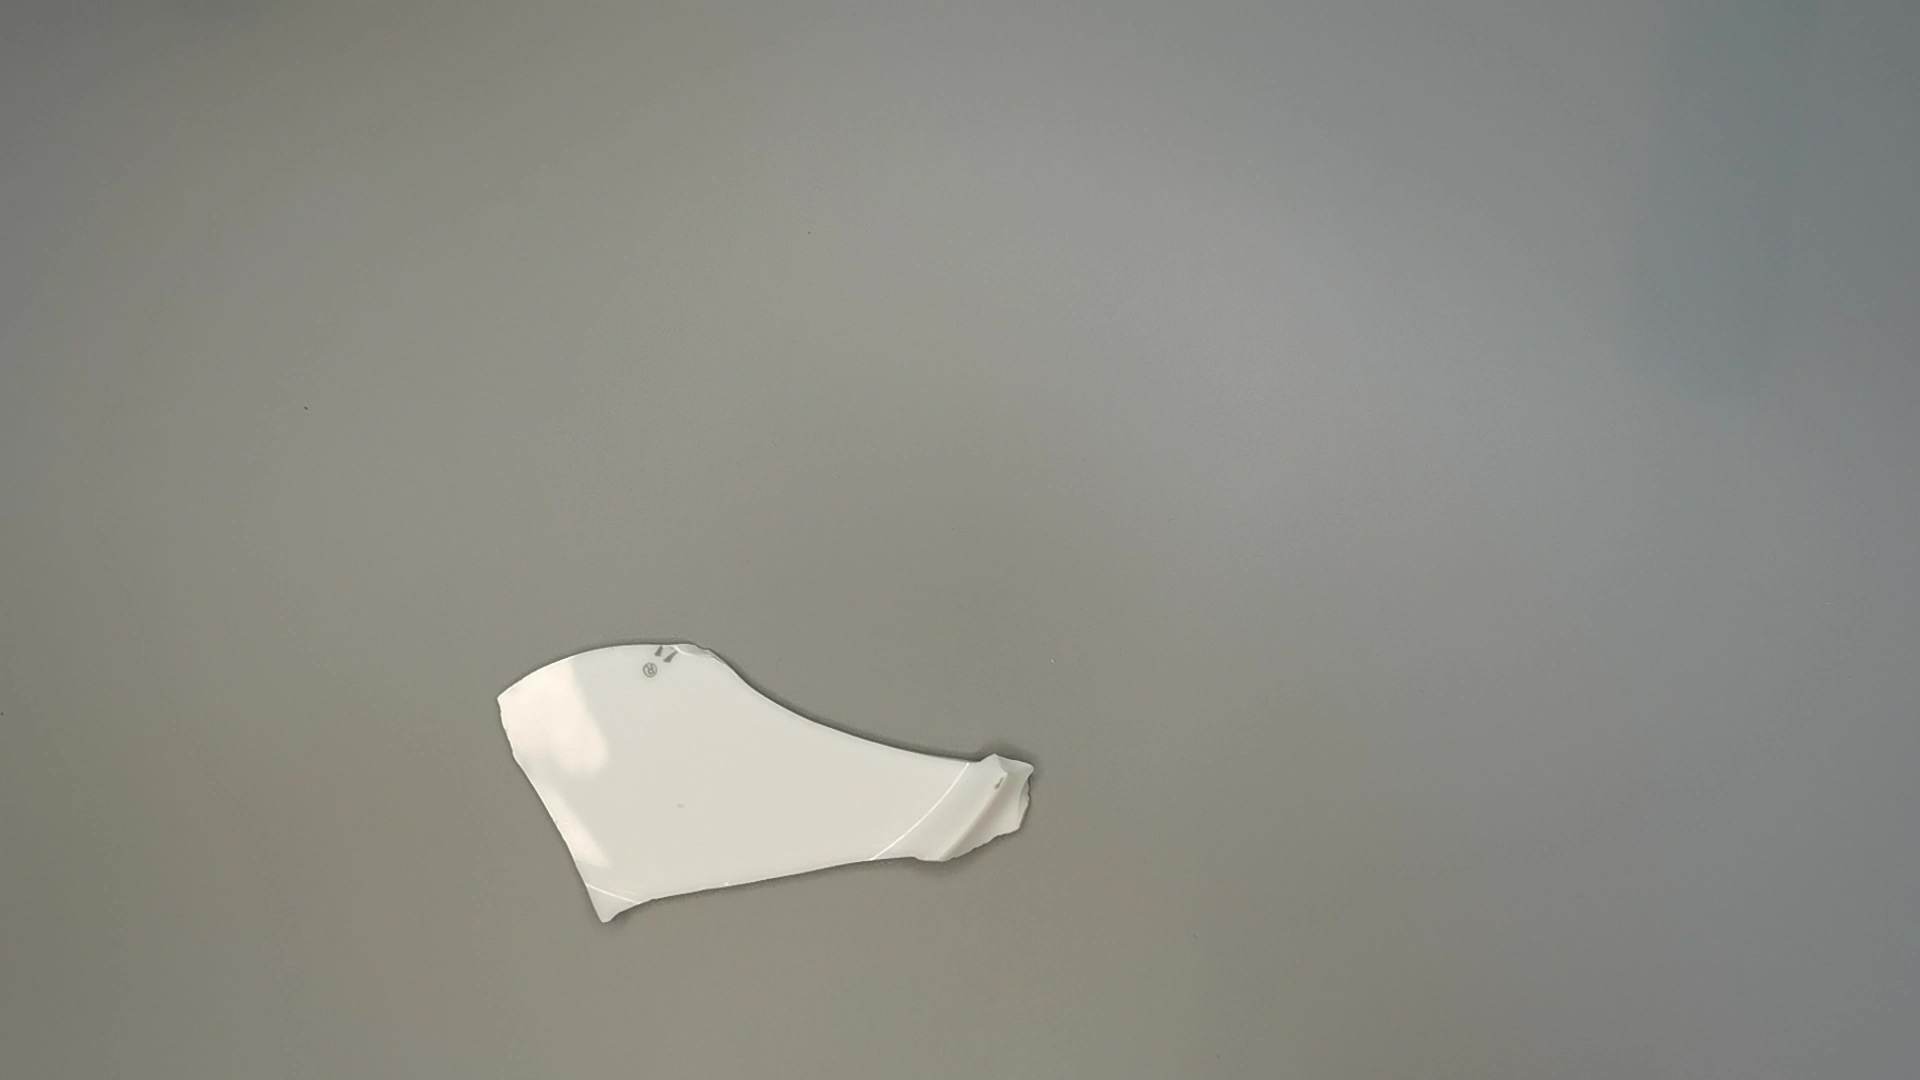ceramic: (489, 636, 1040, 931)
